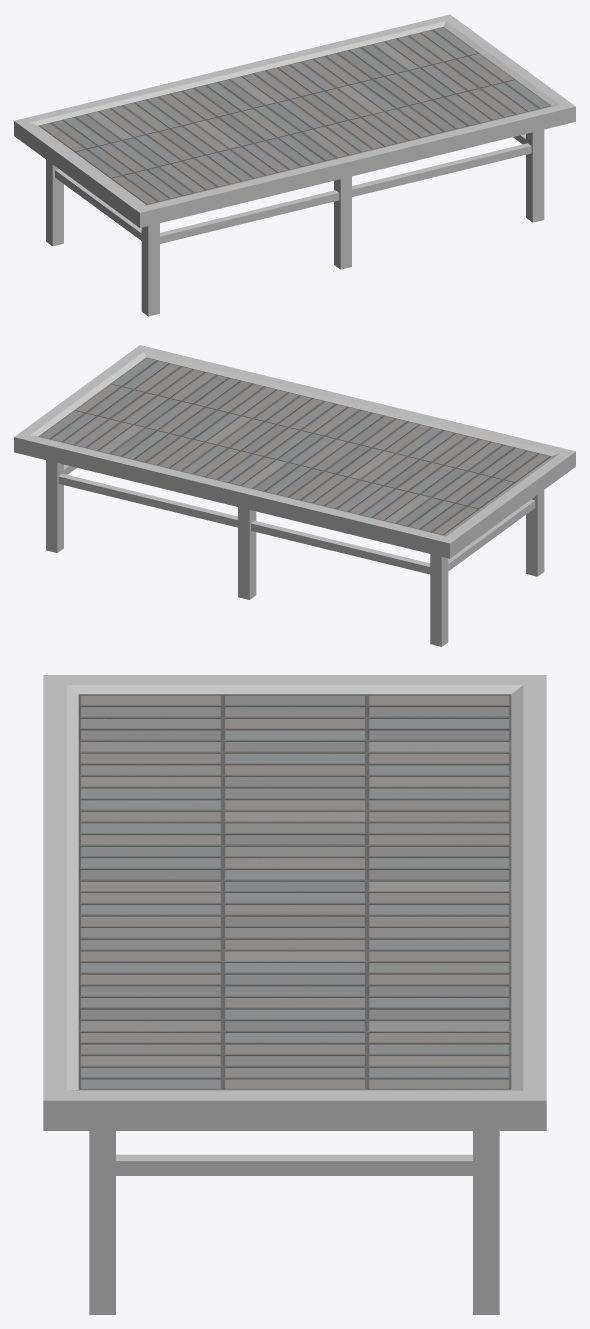
Rendered from Marina_01.fbx.
3 views of the same model, one above another, from view 1: azimuth 30°, elevation 25°; view 2: azimuth 150°, elevation 25°; view 3: azimuth 270°, elevation 25° (orthographic). The views are drawn at different scales.
Parts seen in each view (by area): view 1: Marina_01; view 2: Marina_01; view 3: Marina_01.
Part boxes in pixels (x1,y1,x2,y2): Marina_01: [14, 14, 575, 316]; Marina_01: [14, 345, 575, 646]; Marina_01: [43, 675, 546, 1314].
Size of the model in its own units: 3000 by 1500 by 769.
